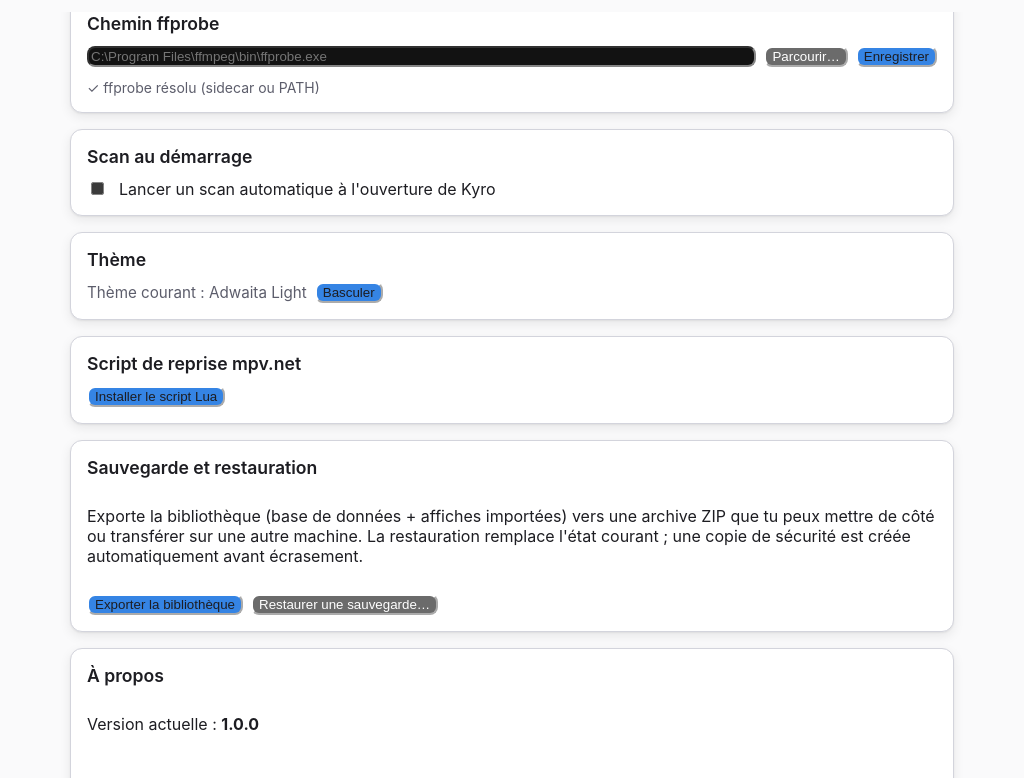
/settings — section Installer le script Lua (req. 9.7) › appelle installLuaScript et affiche le chemin retourné
Click the button with test id "install-lua-script".
click(156, 396)  # box [87,386,225,407]
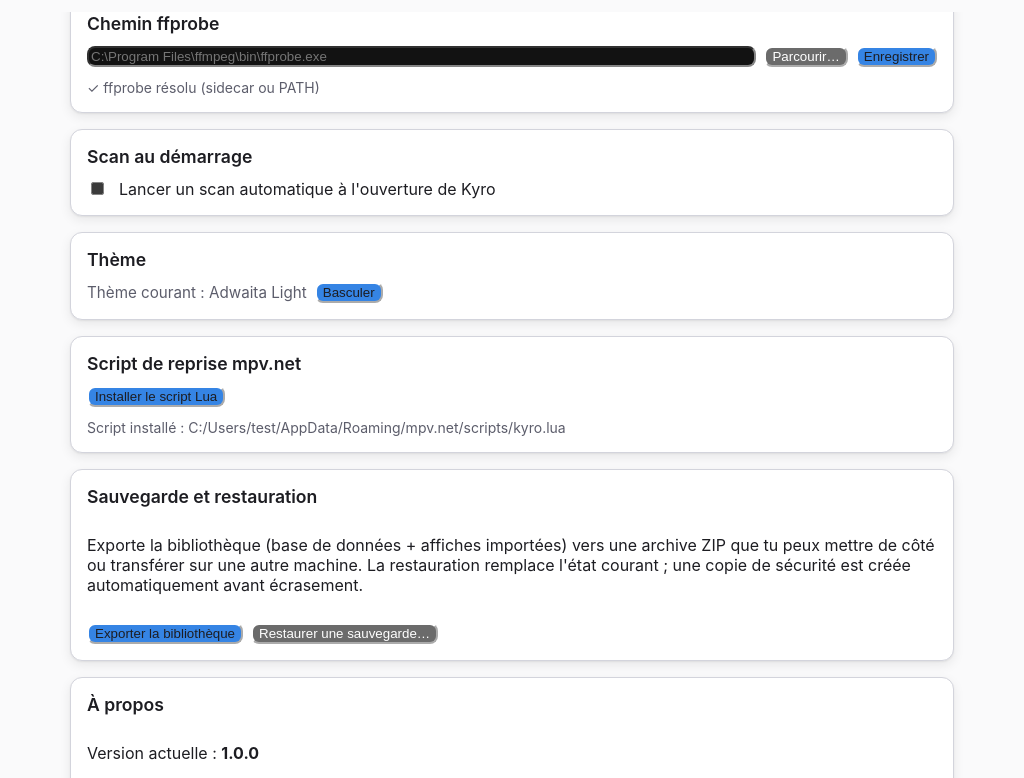
Expected: the message with test id "lua-status" shows "kyro.lua", [87,419,566,436]
